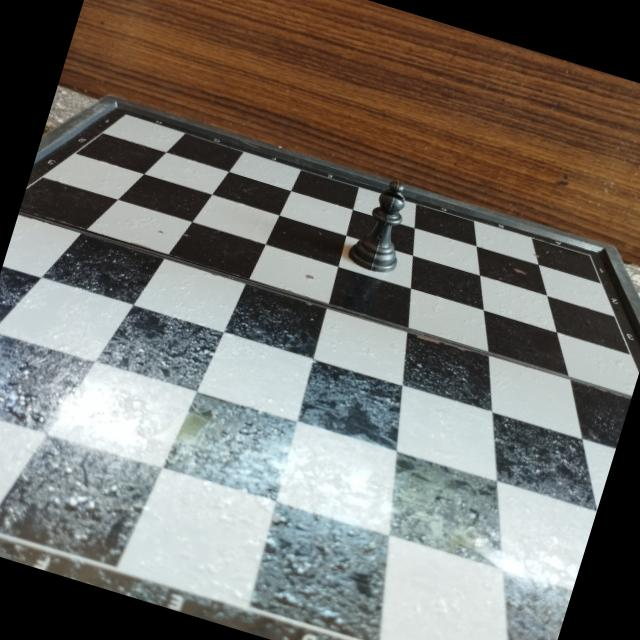Black Bishop: (338, 165, 431, 290)
